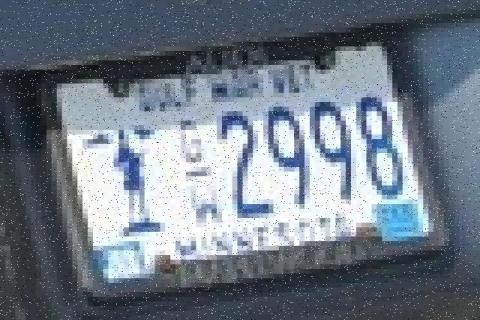LicensePlate: (26, 14, 457, 294)
